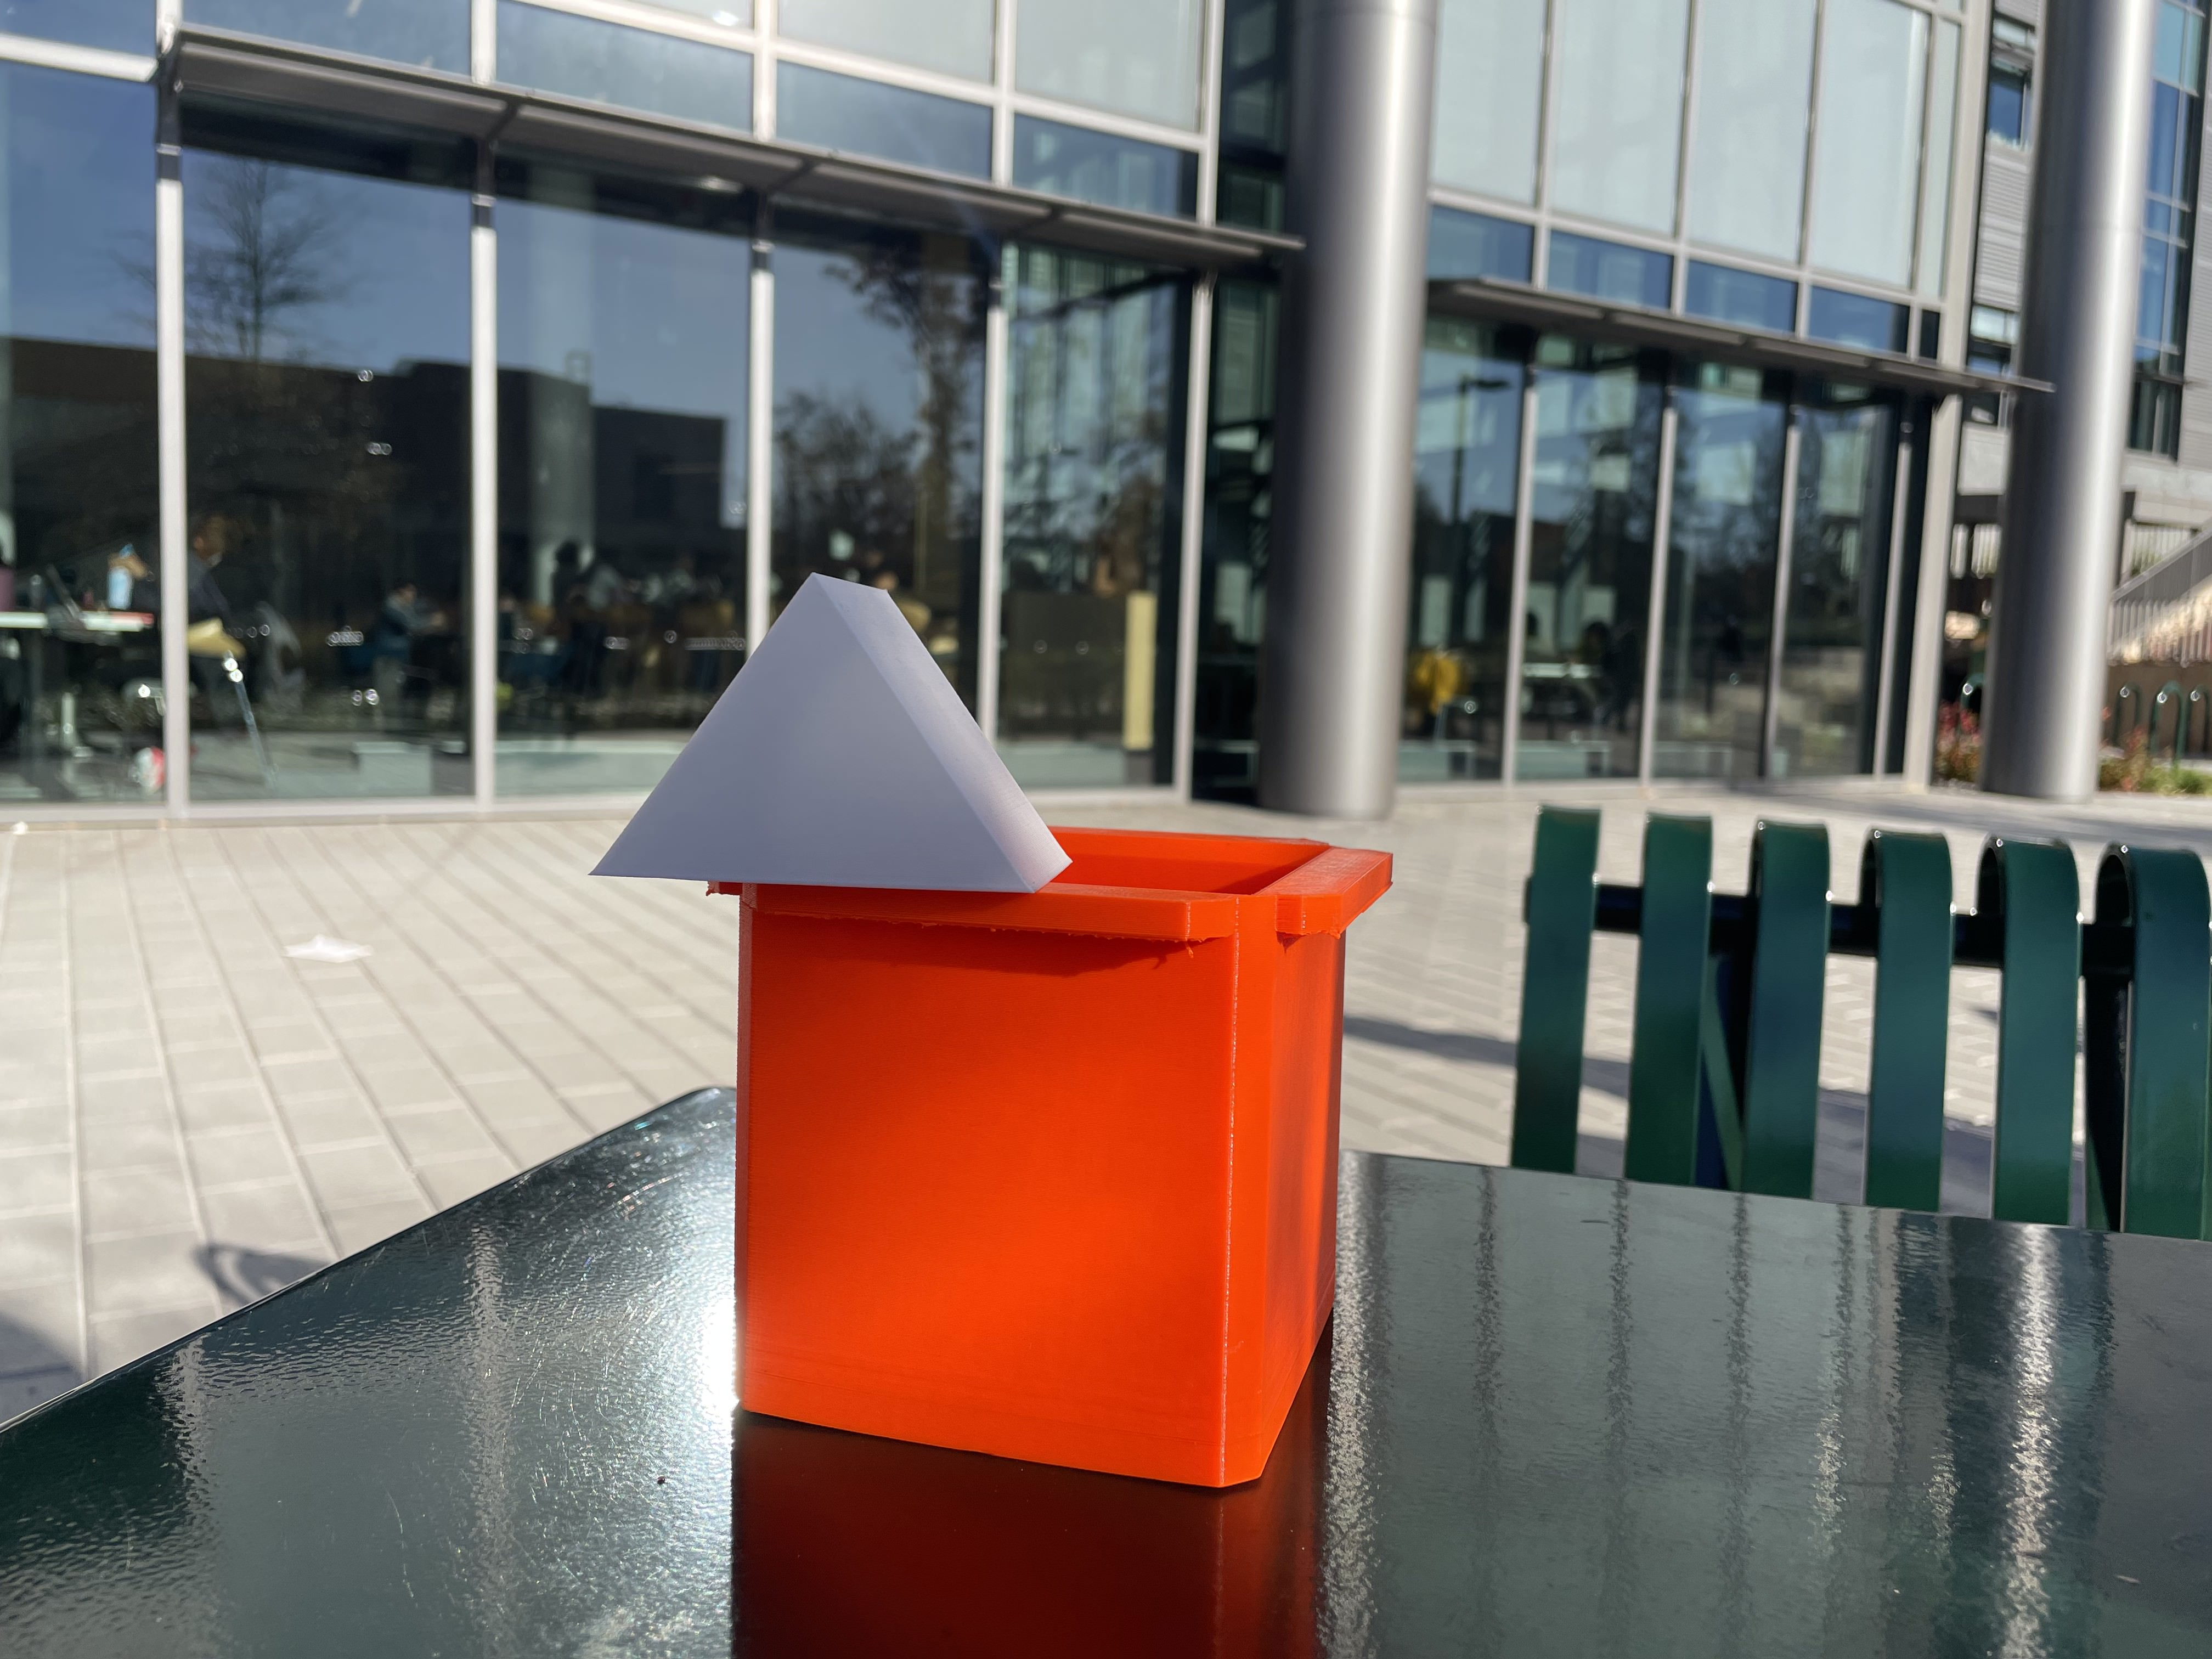payload1: (690, 798, 1413, 1518)
payload2: (575, 549, 1080, 906)
